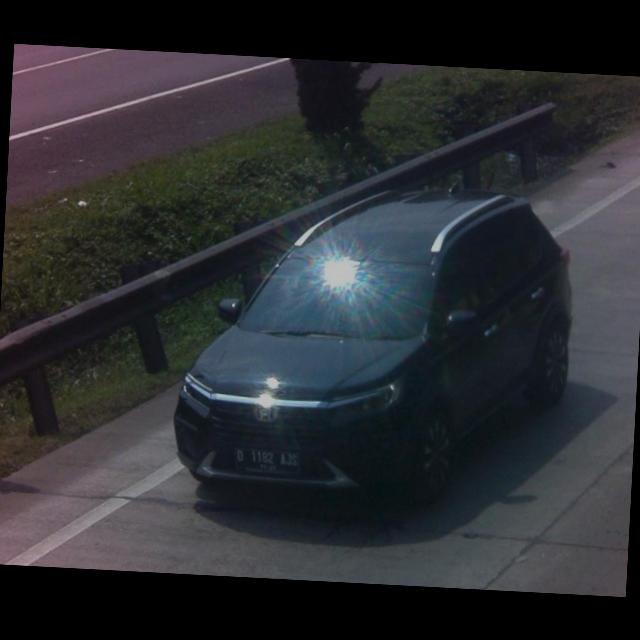plate: (231, 448, 302, 476)
